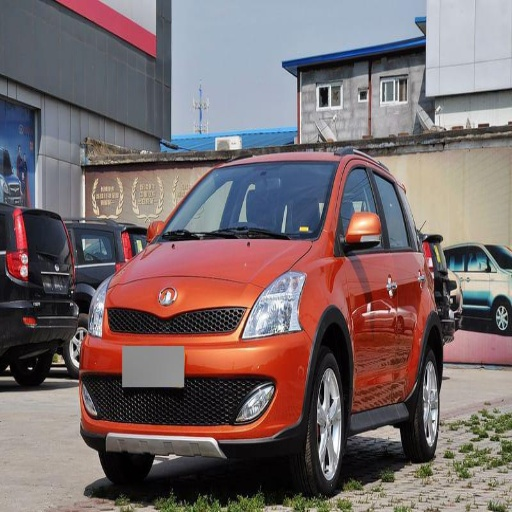back_left_door: (370, 164, 423, 397)
front_bumper: (88, 276, 314, 450)
front_glass: (158, 163, 336, 240)
front_left_door: (336, 159, 397, 406)
